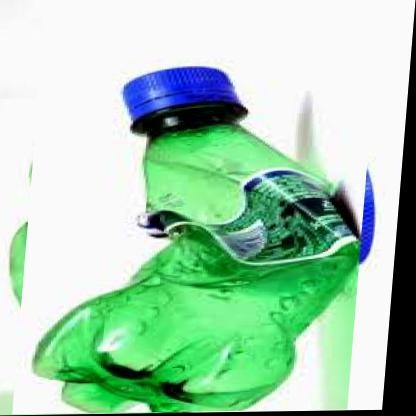trash: (34, 67, 358, 411)
